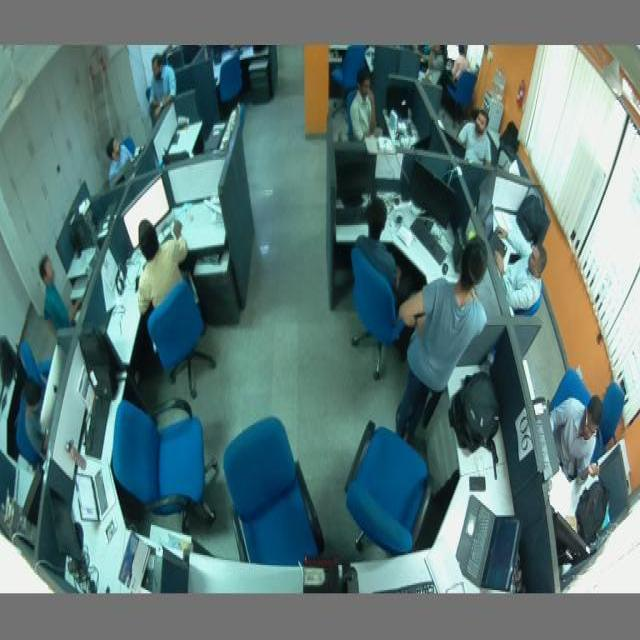chair: (221, 415, 329, 568), (114, 395, 219, 532), (346, 420, 430, 557), (143, 284, 220, 394), (600, 378, 632, 448), (548, 368, 593, 412), (330, 47, 371, 95), (446, 69, 479, 123), (216, 55, 248, 108), (17, 397, 38, 466), (18, 344, 52, 386)
keyboard: (411, 217, 447, 266), (372, 580, 438, 593), (332, 207, 375, 223)
laptop: (457, 492, 520, 591)
monitor: (409, 161, 470, 241), (122, 171, 173, 249), (46, 486, 82, 572), (552, 507, 590, 571), (334, 151, 378, 197), (477, 169, 496, 221)
person: (401, 237, 486, 443), (354, 197, 414, 320), (137, 215, 190, 315), (550, 397, 604, 483), (493, 227, 548, 310), (36, 255, 84, 335), (20, 377, 50, 465), (458, 108, 493, 170), (148, 54, 178, 118), (351, 67, 378, 135), (104, 137, 136, 188)
phone: (466, 472, 488, 495), (104, 516, 118, 544)
